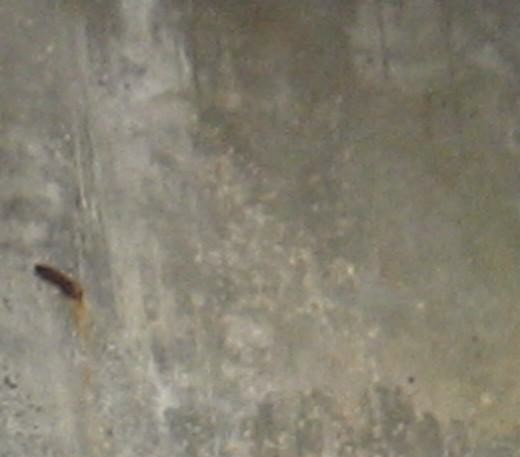Exposed reinforcement: (32, 261, 84, 303)
